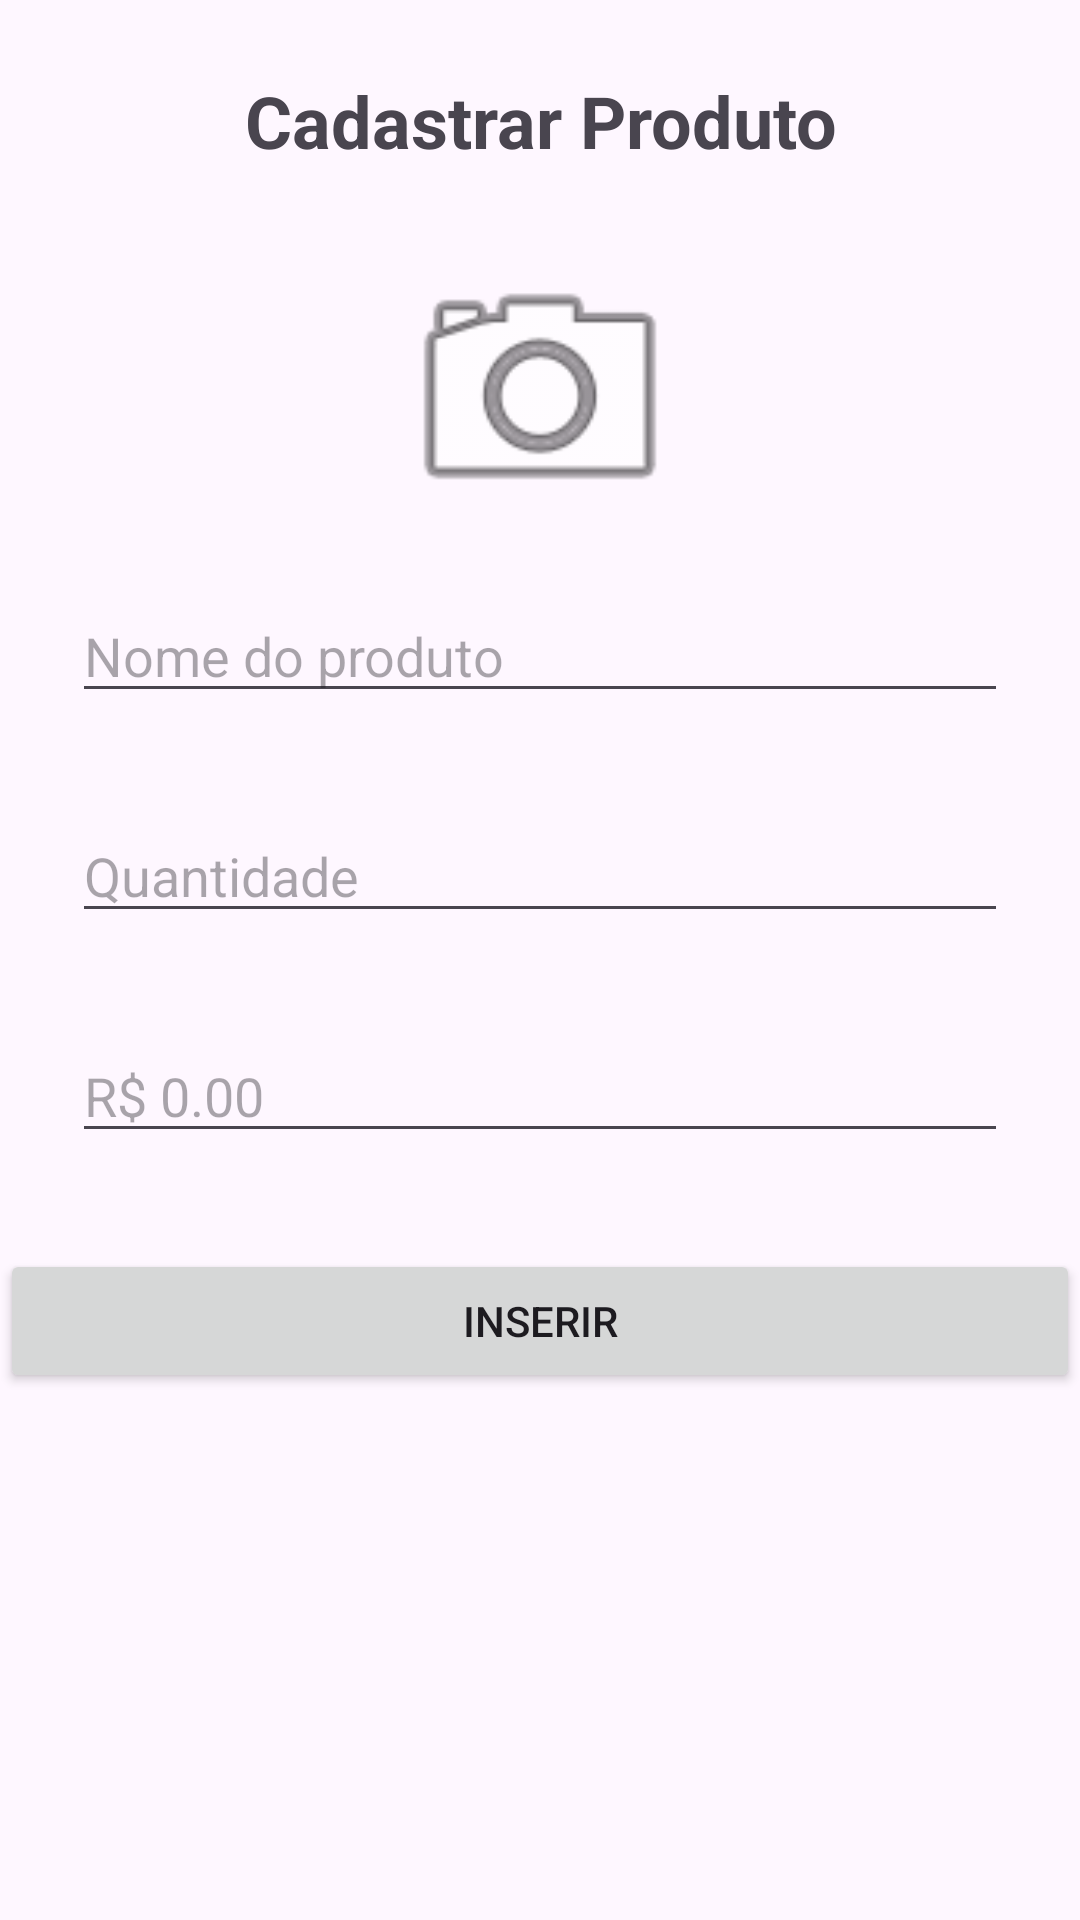

Icons on this 1080px x 1920px Android screen, each with the point to tap as [x,y]:
camera: [540,386]
